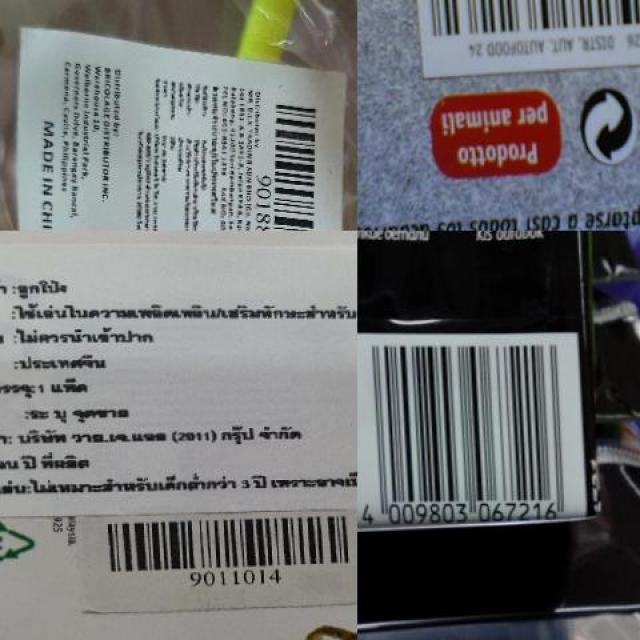Barcode: (357, 333, 588, 531), (92, 512, 357, 588), (412, 0, 640, 82), (254, 86, 338, 230)
